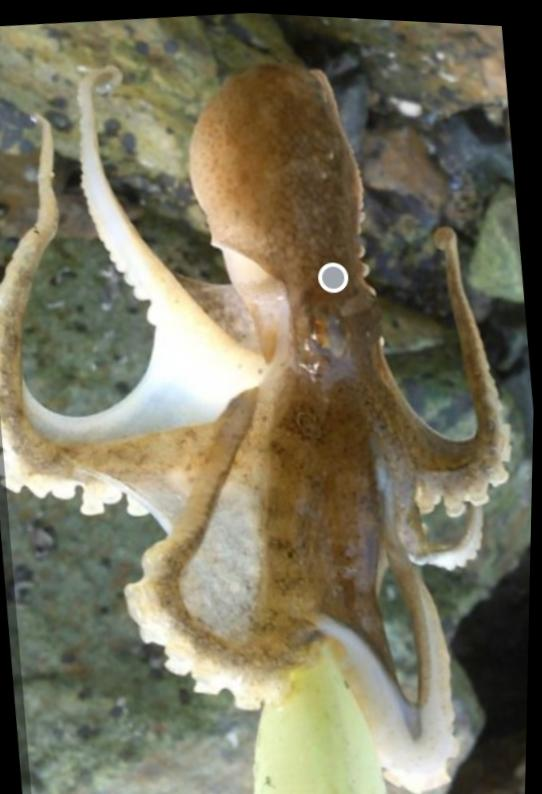Cephalopod: (0, 59, 512, 794)
